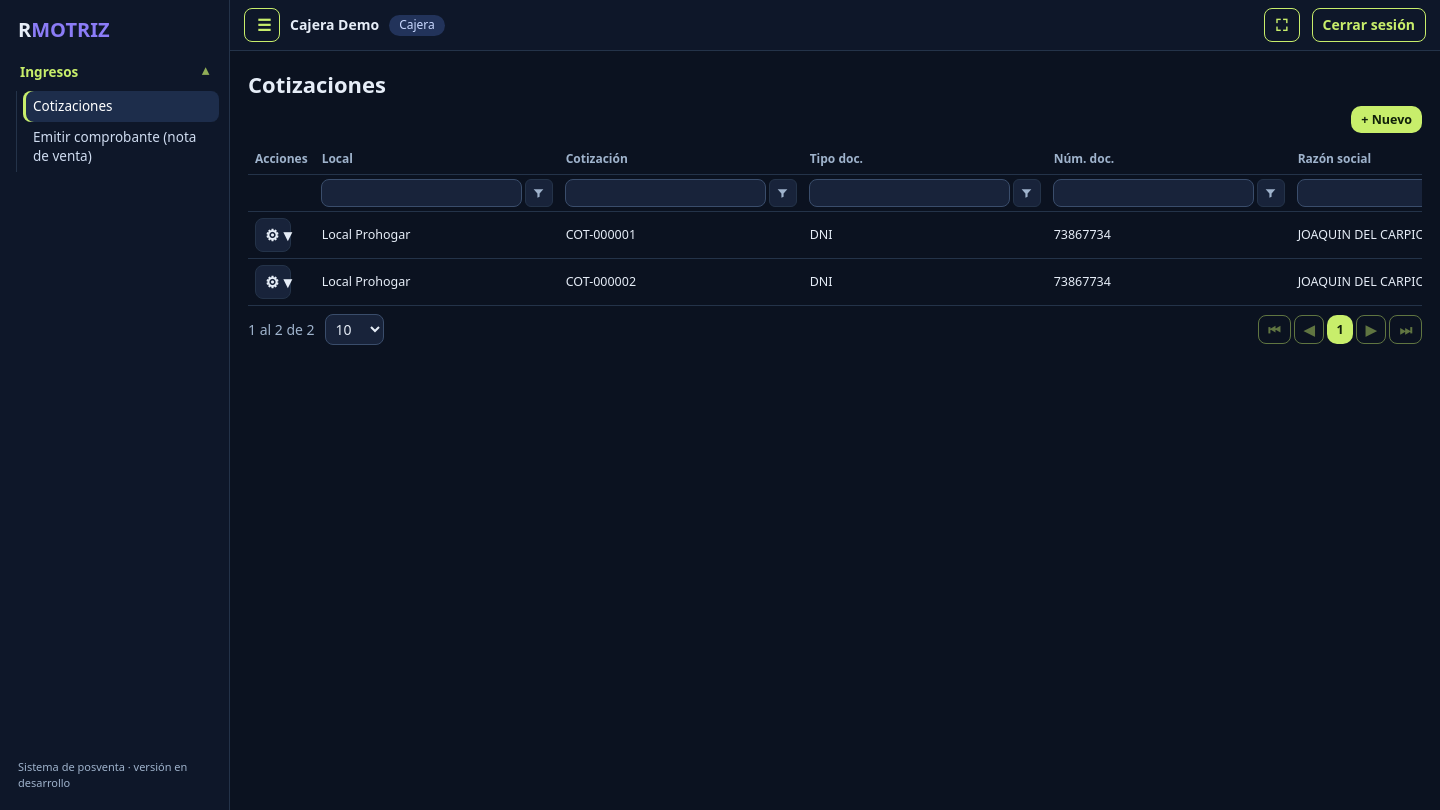
Cotizaciones: «+ Nuevo» abre el formato sin serie ni pagos, con vigencia hasta hoy, vehículo opcional e IGV incluido, y la emite
The image size is (1440, 810).
Later steps or results of the test are not shown.
Expected: the text "COT-000001" is shown, [566, 226, 636, 243]
Click the button "+ Nuevo": point(1387, 120) [1351, 106, 1422, 133]
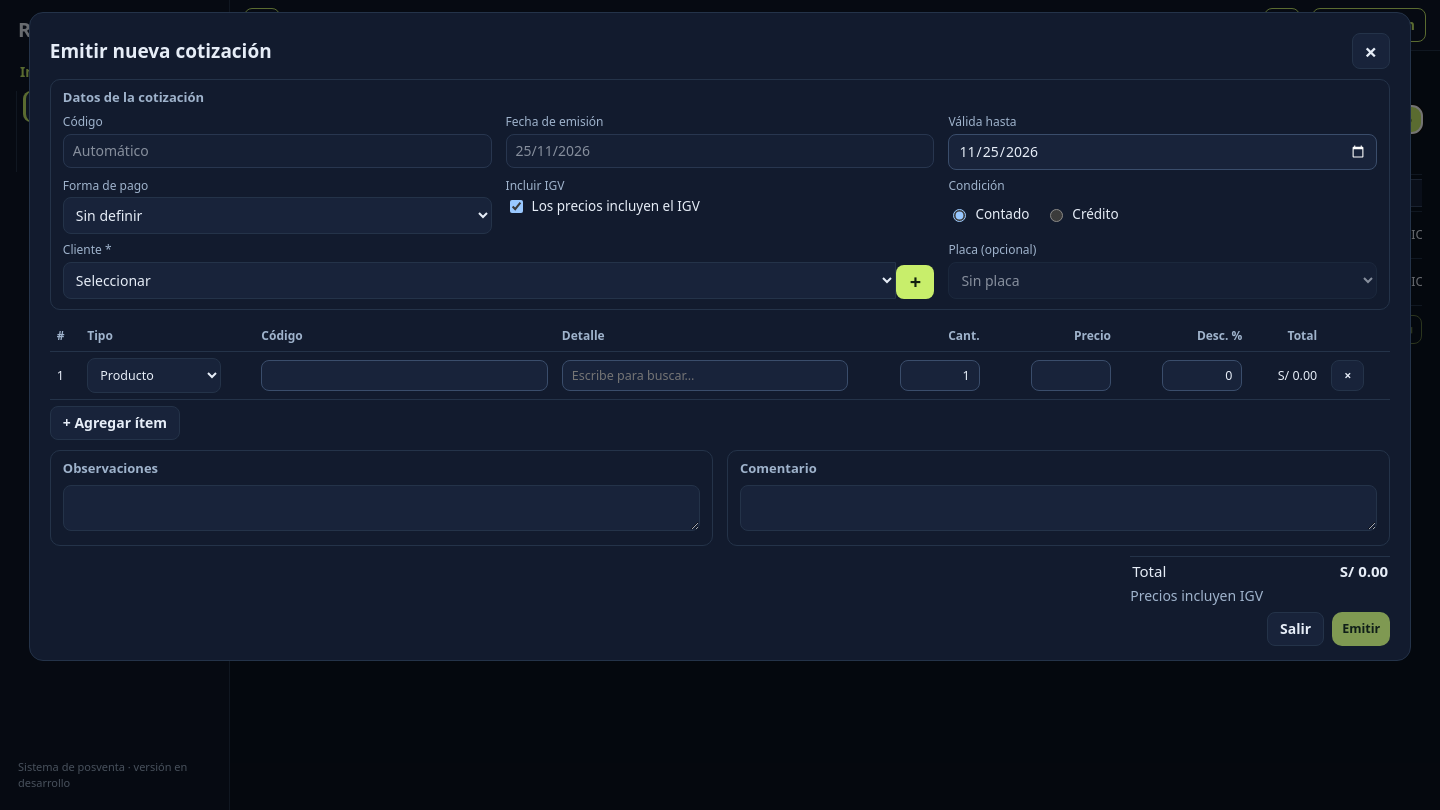
Expected: the dropdown labelled "Placa (opcional)" is shown, [948, 262, 1377, 299]
